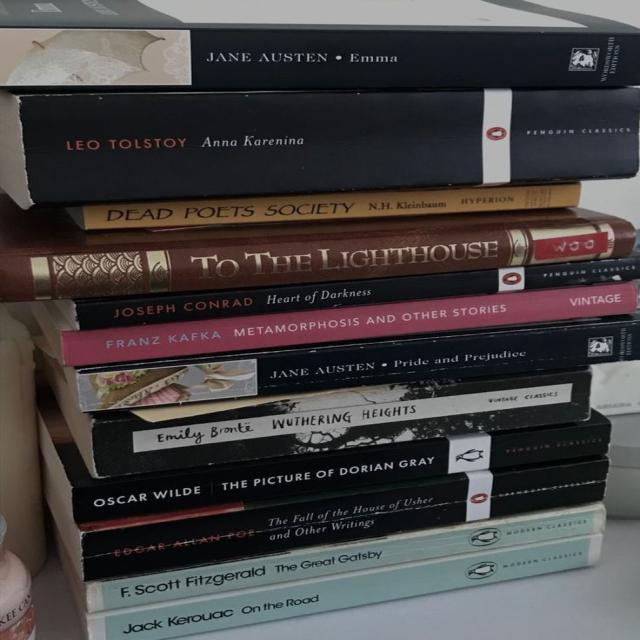book: (0, 89, 639, 208), (87, 512, 603, 639), (80, 461, 607, 581), (72, 410, 610, 524), (0, 209, 634, 301), (86, 503, 603, 612), (92, 369, 590, 476), (77, 319, 639, 412), (57, 282, 637, 367), (71, 258, 639, 329), (0, 29, 639, 89), (67, 185, 580, 230)
